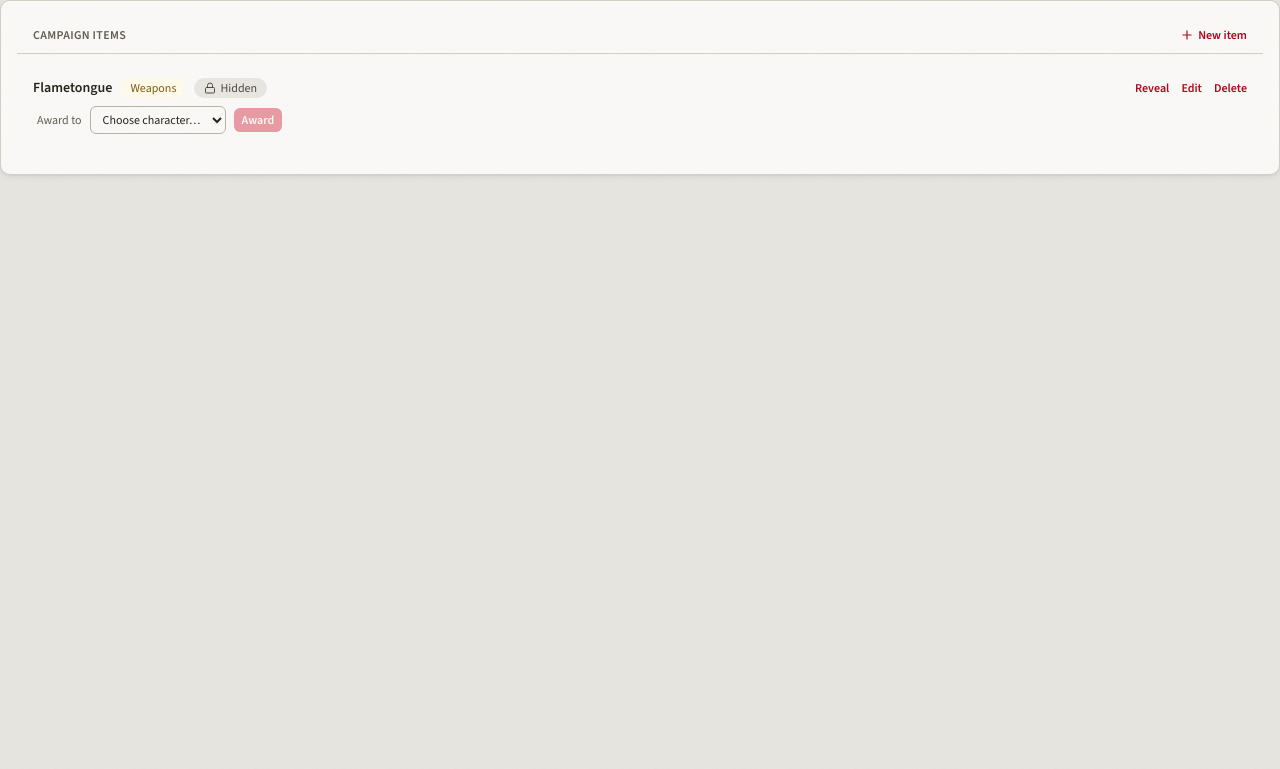
Scenario: CampaignItemsPanel field parity (#527/#542) › pre-fills the weapon fields when editing an existing item
The width and height of the screenshot is (1280, 769).
Expected: the link "Flametongue" is shown, [33,78,112,98]
Step 1. Click the button "Edit" → (1192, 88), box [1181,80,1202,96]
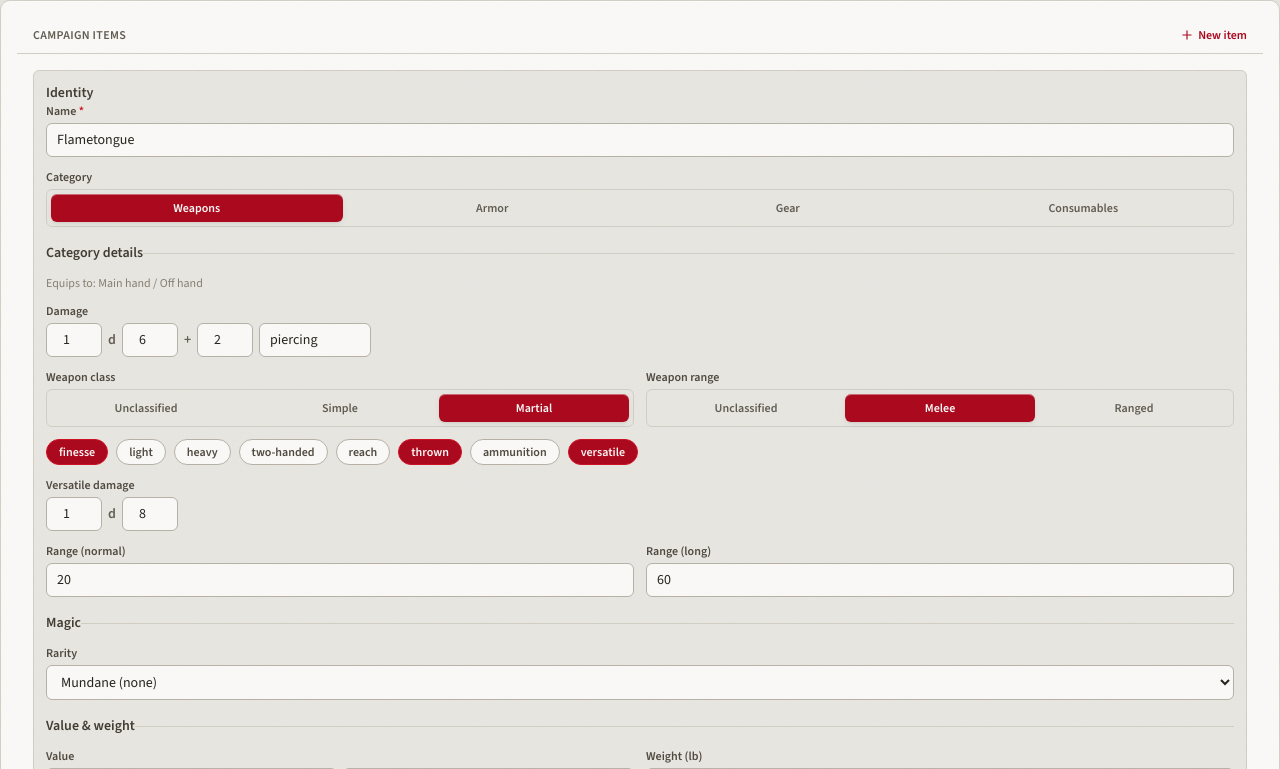
Expected: the number field named "Damage modifier" holds "2", [197,323,253,357]
Expected: the number field named "Versatile damage dice faces" holds "8", [122,497,178,531]
Expected: the number field labelled "Range (normal)" holds "20", [46,563,634,597]
